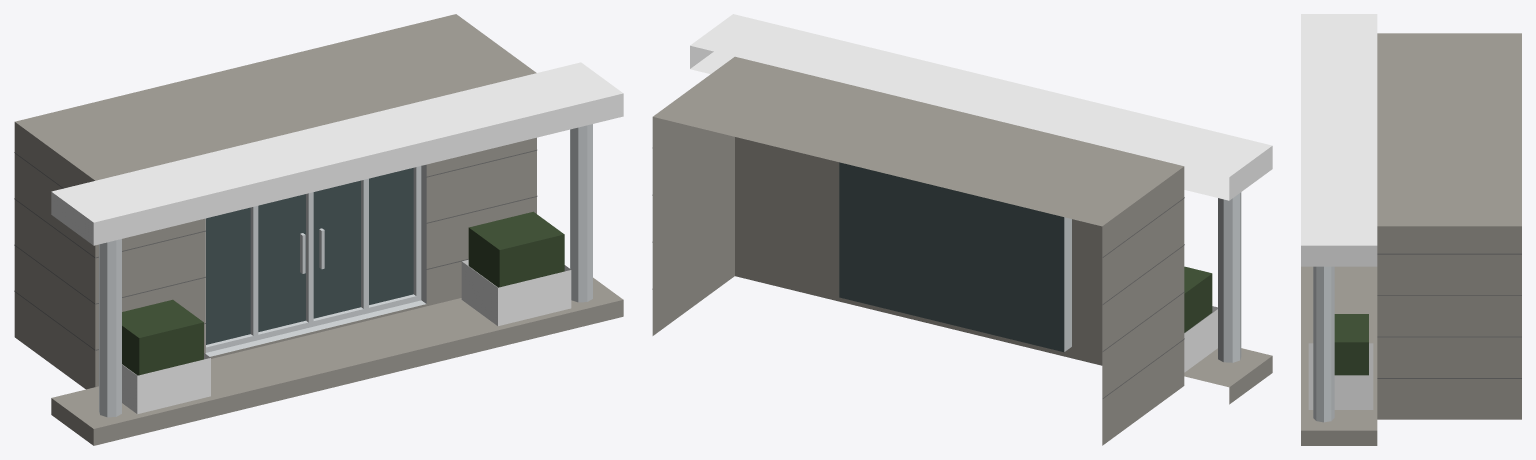
File: entrance_close.fbx
3 views of the same model, side by side, from view 1: azimuth 30°, elevation 25°; view 2: azimuth 150°, elevation 25°; view 3: azimuth 270°, elevation 25° (orthographic). The views are drawn at different scales.
Visible parts, largest first — view 1: a2007/250/entrance_close; view 2: a2007/250/entrance_close; view 3: a2007/250/entrance_close.
Boxes of the visible parts, x1,y1,x2,y2 form: a2007/250/entrance_close: (14, 14, 623, 445); a2007/250/entrance_close: (652, 14, 1272, 445); a2007/250/entrance_close: (1301, 14, 1521, 445).
Bounding box in the file's own units: 7.2 × 2.9 × 2.9.
